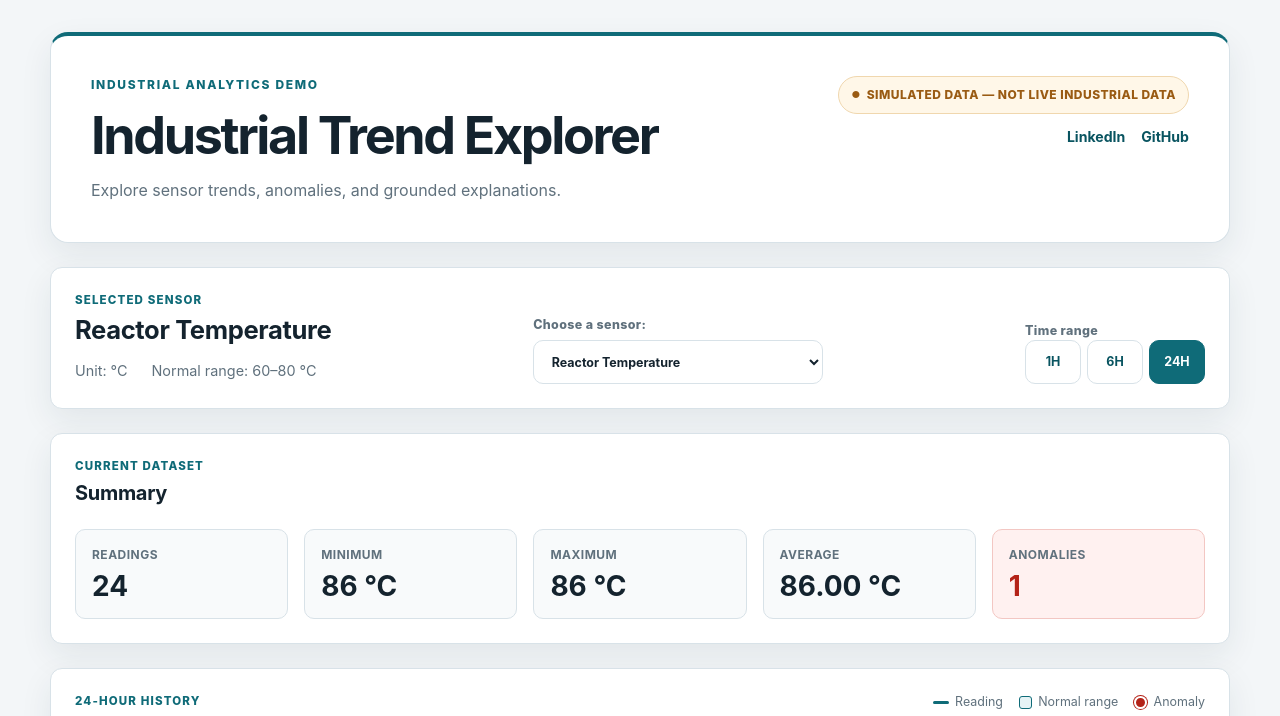
Scenario: defaults to 24 hours and reloads summary data when the range changes
Expected: the text "Maximum" is shown, left=550, top=547, right=617, bottom=562
Expected: the text "Maximum" shows "86 °C", left=550, top=569, right=626, bottom=603
Click the button "6H" at (1115, 362), box left=1087, top=340, right=1143, bottom=384
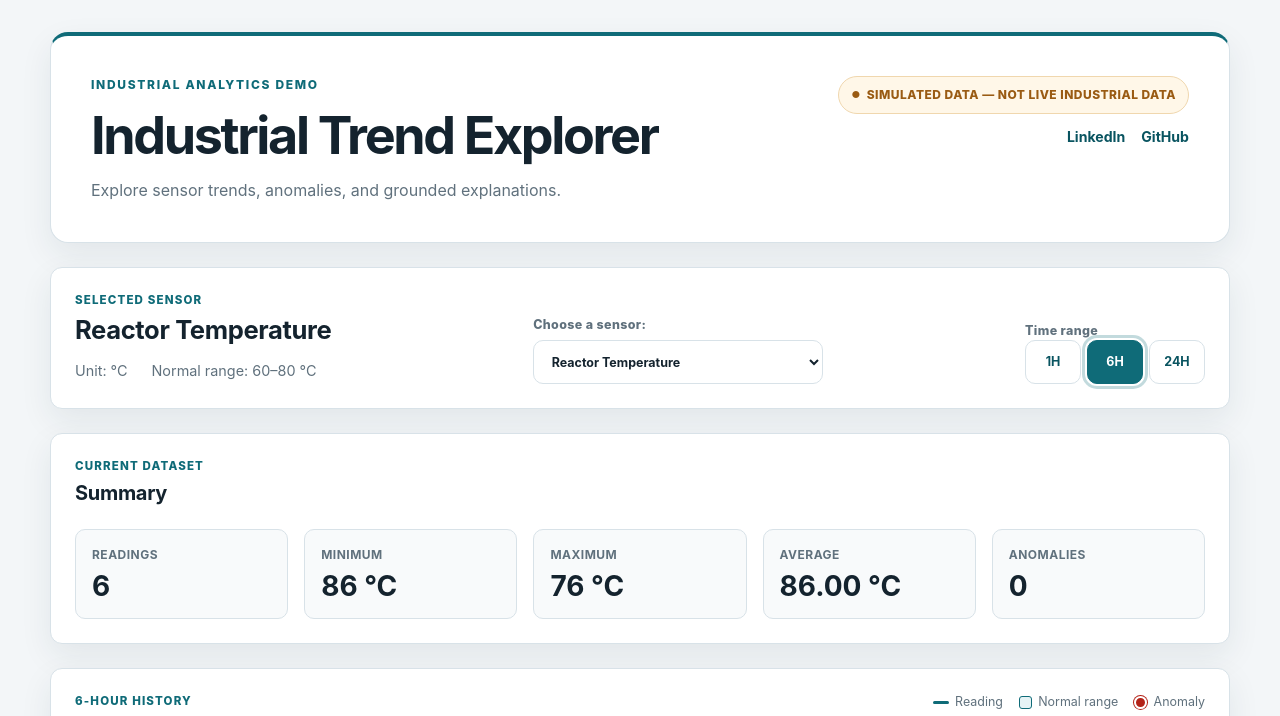
Result: the text "76 °C" is shown at left=550, top=569, right=624, bottom=603
Result: the text "6-hour history" is shown at left=75, top=693, right=197, bottom=710
